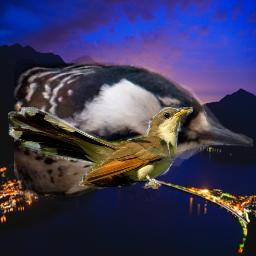Cuckoo: (8, 107, 193, 189)
Woodpecker: (14, 52, 253, 201)
